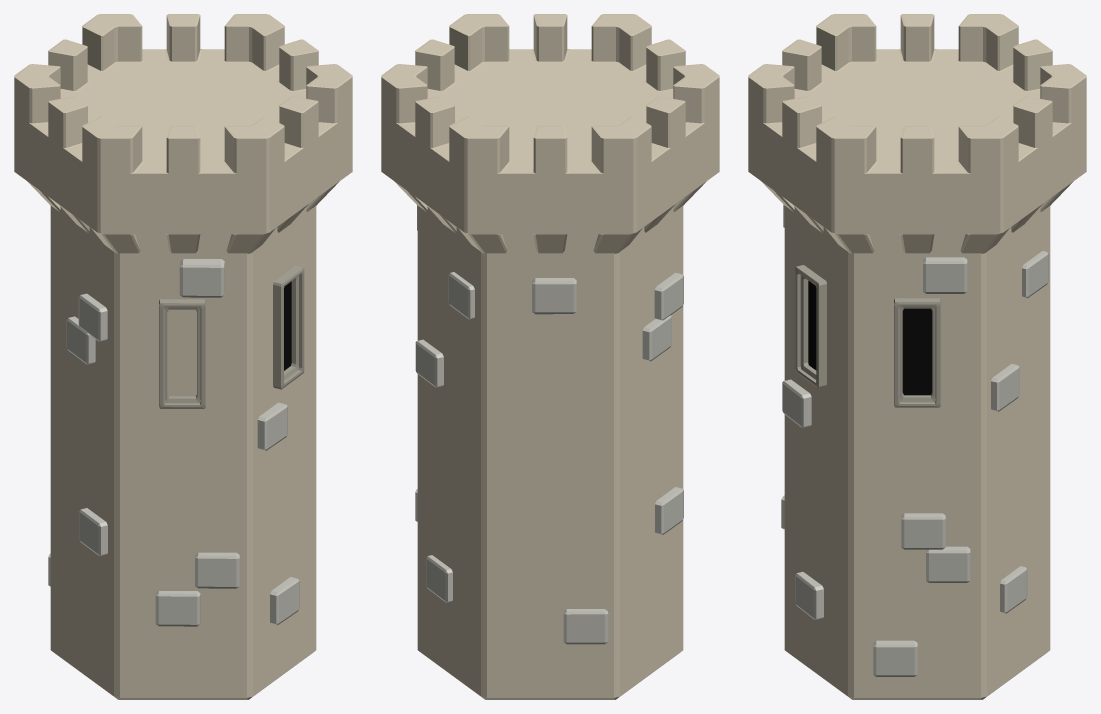
File: SideTower.fbx
3 renders of one model, left to right at view 1: azimuth 30°, elevation 25°; view 2: azimuth 150°, elevation 25°; view 3: azimuth 270°, elevation 25°, orthographic.
Parts seen in each view (by area): view 1: Tower, Top, Window.005, Window.004, Stone.012, Stone.013, Stone.014, Stone.016, Stone.015, Stone.009, Stone.011, Stone.010; view 2: Tower, Top, Stone.008, Stone.007, Stone.009, Stone.011, Stone.005, Stone.010, Stone.006, Stone.004; view 3: Tower, Top, Window, Window.005, Stone.001, Stone.003, Stone.002, Stone, Stone.016, Stone.015, Stone.005, Stone.006 (+1 smaller).
Part boxes in pixels (x1,y1,x2,y2): Tower: (50,206,316,699); Top: (14,14,352,253); Window.005: (273,265,304,389); Window.004: (159,299,205,408); Stone.012: (179,259,224,297); Stone.013: (195,552,239,588); Stone.014: (155,591,200,626); Stone.016: (257,402,287,450); Stone.015: (270,577,299,625); Stone.009: (78,293,107,341); Stone.011: (79,508,107,555); Stone.010: (66,316,95,364); Tower: (417,206,683,699); Top: (381,14,719,253); Stone.008: (563,609,608,644); Stone.007: (532,278,576,314); Stone.009: (654,272,683,320); Stone.011: (655,487,683,534); Stone.005: (415,339,443,387); Stone.010: (642,315,671,361); Stone.006: (426,555,452,602); Stone.004: (448,272,474,319); Tower: (784,206,1050,699); Top: (748,14,1086,253); Window: (894,298,940,407); Window.005: (795,265,826,388); Stone.001: (901,513,945,549); Stone.003: (873,640,917,676); Stone.002: (923,257,967,293); Stone: (926,546,970,582); Stone.016: (782,379,811,427); Stone.015: (795,572,823,619); Stone.005: (991,364,1019,411); Stone.006: (1000,566,1027,613).
Size of the model in its own units: 730 by 1574 by 837.
